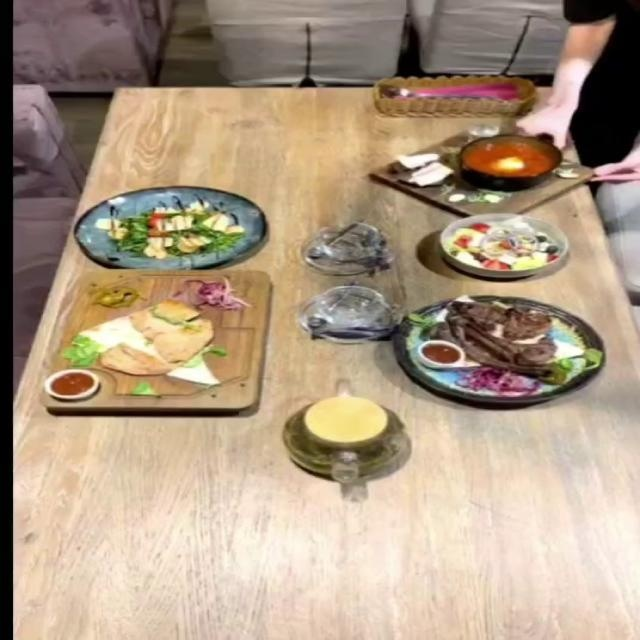meat: (43, 270, 277, 413), (390, 294, 606, 404)
salad: (71, 185, 265, 268), (438, 211, 570, 277)
soup: (390, 135, 569, 209)
tea: (279, 392, 409, 480)
